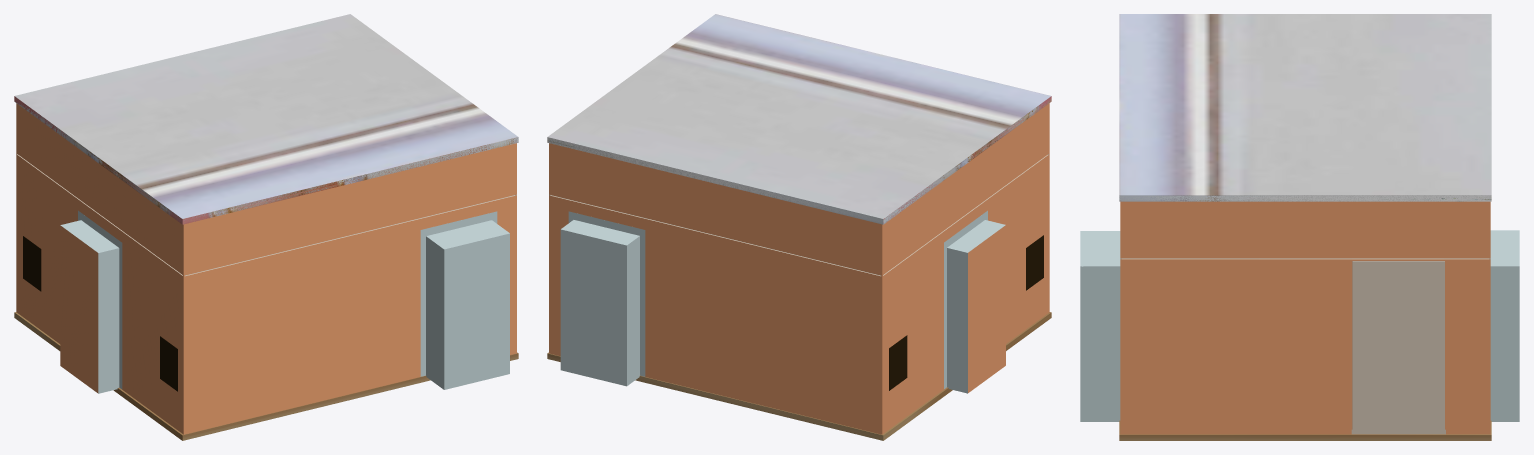
File: eustatiu_stoenescu.fbx
3 views of the same model, side by side, from view 1: azimuth 30°, elevation 25°; view 2: azimuth 150°, elevation 25°; view 3: azimuth 270°, elevation 25° (orthographic). The views are drawn at different scales.
Parts seen in each view (by area): view 1: room, Cube.004, Cube.002, Cube.001, DoorMargin, DoorMargin.002, Artwork.010, Artwork.011; view 2: room, Cube.004, Cube.002, Cube.001, DoorMargin.001, Artwork.010, Artwork.011, DoorMargin.002; view 3: room, Cube.004, window, Cube.001, Cube.002, Door2.
Part boxes in pixels (x1,y1,x2,y2): room: (16,103,516,434); Cube.004: (14,14,518,224); Cube.002: (14,101,518,224); Cube.001: (14,312,518,440); DoorMargin: (420,211,497,376); DoorMargin.002: (78,210,122,389); Artwork.010: (23,236,41,291); Artwork.011: (160,336,177,391); room: (549,103,1049,434); Cube.004: (547,14,1051,223); Cube.002: (547,96,1051,224); Cube.001: (547,312,1051,440); DoorMargin.001: (568,211,645,376); Artwork.010: (889,335,907,390); Artwork.011: (1026,235,1043,290); DoorMargin.002: (944,210,987,388); room: (1080,201,1519,434); Cube.004: (1119,14,1491,201); window: (1351,261,1445,434); Cube.001: (1119,420,1491,440); Cube.002: (1119,195,1491,201); Door2: (1081,266,1083,421).
Size of the model in its own units: 4904 by 2926 by 4749.
